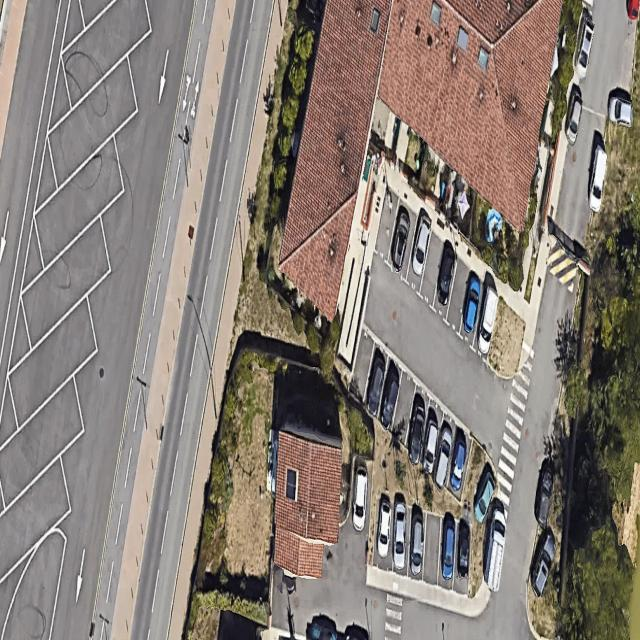maison: (352, 0, 562, 231), (269, 0, 394, 317), (272, 428, 342, 577)
